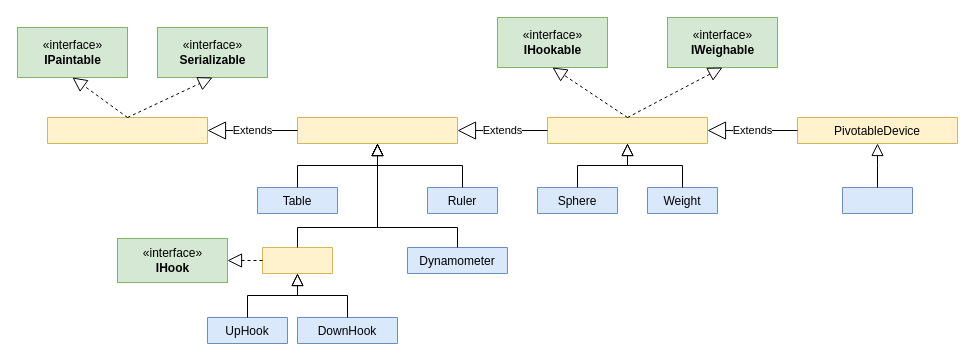
Image size: 975x361. Some labels were removed from this diagram. The centre of each missing label's shape, as x and y in pixels:
"Body" belongs at point 627,130.
"Hook" belongs at point 297,260.
"Mechanic Device" belongs at point 377,130.
"PObject" belongs at point 127,130.
"Rail" belongs at point 877,200.
